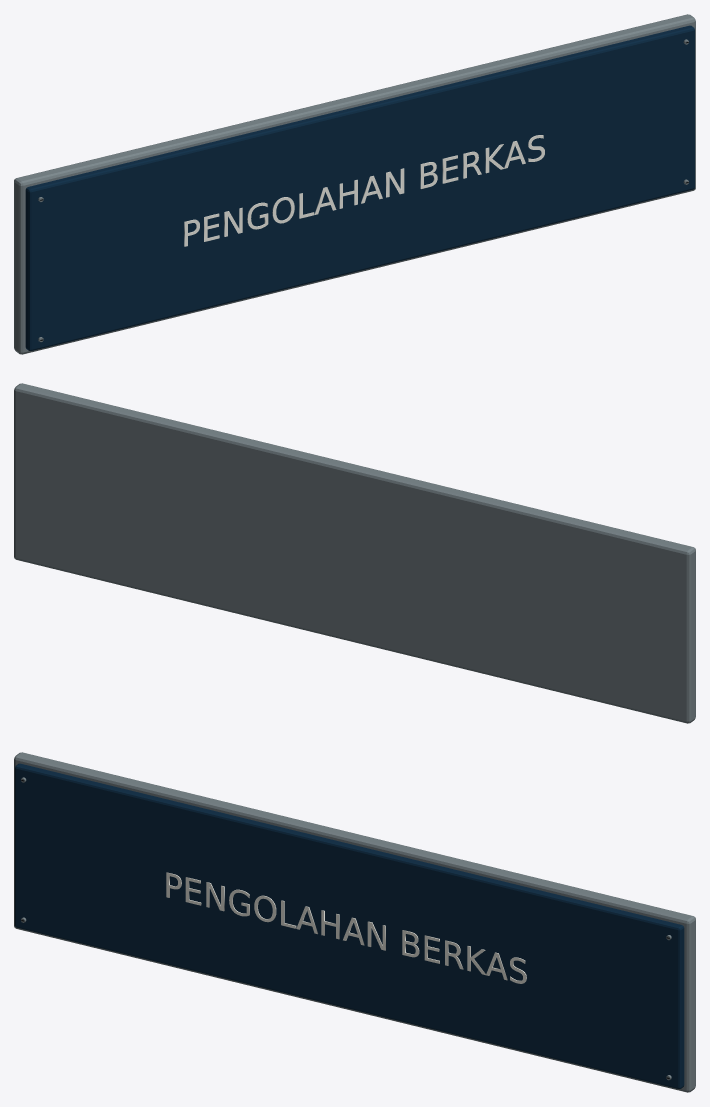
Rendered from OAA_Papan_Ruang_Pengolahan_Berkas.fbx.
The picture shows the model from 3 angles, top to bottom: view 1: azimuth 30°, elevation 25°; view 2: azimuth 150°, elevation 25°; view 3: azimuth 330°, elevation 25°; orthographic projection.
Visible parts, largest first — view 1: Body; view 2: Body; view 3: Body.
Boxes of the visible parts, left/top/right/bottom form: Body: left=14, top=14, right=695, bottom=354; Body: left=14, top=383, right=695, bottom=723; Body: left=14, top=752, right=695, bottom=1092.
Bounding box in the file's own units: 0.9 × 0.22 × 0.0312.
